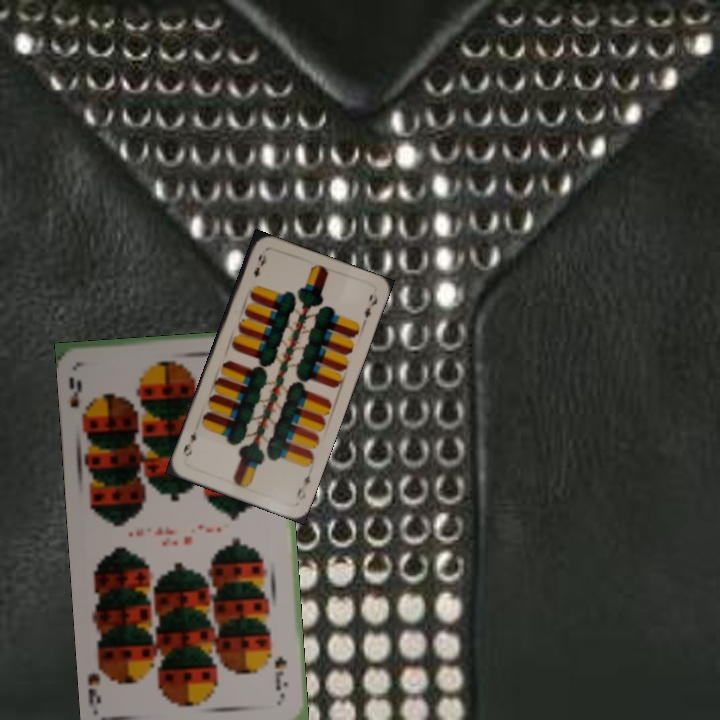E9: (292, 472, 313, 504), (249, 250, 269, 280)
S9: (65, 373, 93, 425), (270, 653, 290, 702)
